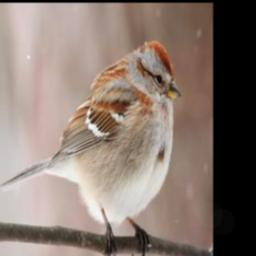Sparrow: (0, 39, 180, 256)
